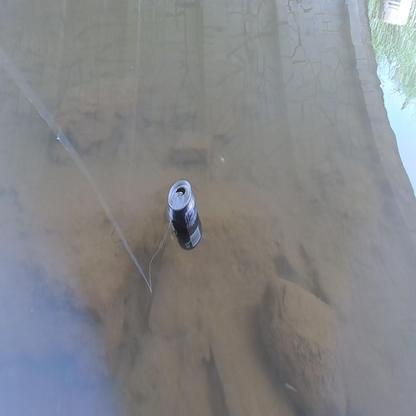can: (168, 179, 203, 250)
